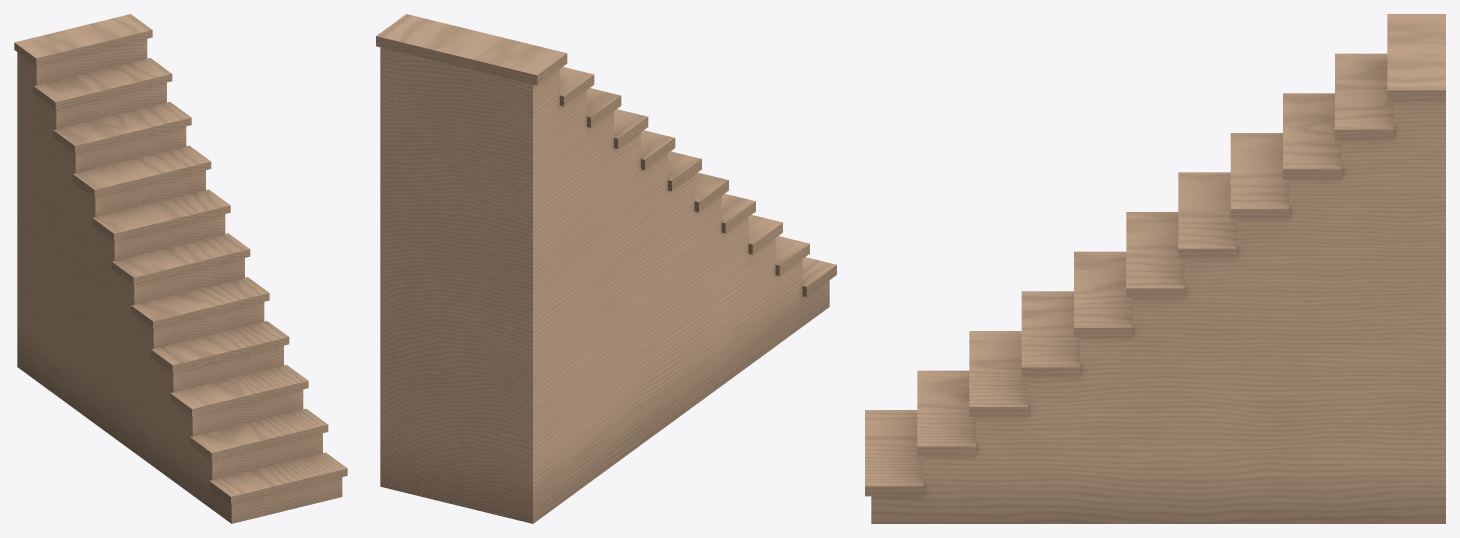
File: stairs.glb
The picture shows the model from 3 angles, left to right: view 1: azimuth 30°, elevation 25°; view 2: azimuth 150°, elevation 25°; view 3: azimuth 270°, elevation 25°; orthographic projection. The views are drawn at different scales.
Visible parts, largest first — view 1: stairs; view 2: stairs; view 3: stairs.
Part boxes in pixels (x1,y1,x2,y2): stairs: (14, 14, 347, 523); stairs: (376, 14, 836, 523); stairs: (865, 14, 1445, 523).
Size of the model in its own units: 0.9 by 2.4 by 2.9.
Materials: 2 (2 with a texture image).
